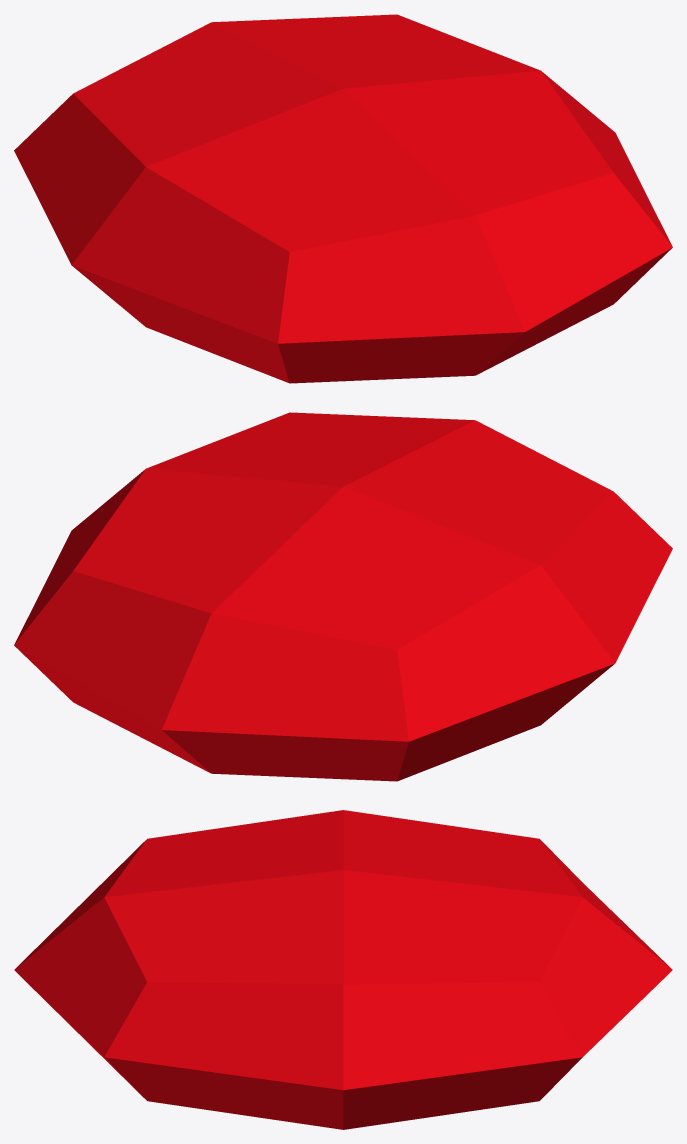
Rendered from point.fbx.
3 views of the same model, one above another, from view 1: azimuth 30°, elevation 25°; view 2: azimuth 150°, elevation 25°; view 3: azimuth 270°, elevation 25° (orthographic). The views are drawn at different scales.
Parts seen in each view (by area): view 1: Cube; view 2: Cube; view 3: Cube.
Part boxes in pixels (x1,y1,x2,y2): Cube: (14, 14, 672, 383); Cube: (14, 412, 672, 781); Cube: (14, 810, 672, 1129).
Bounding box in the file's own units: 23.98 × 9.3 × 27.77.
